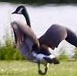goose: (8, 4, 77, 75)
